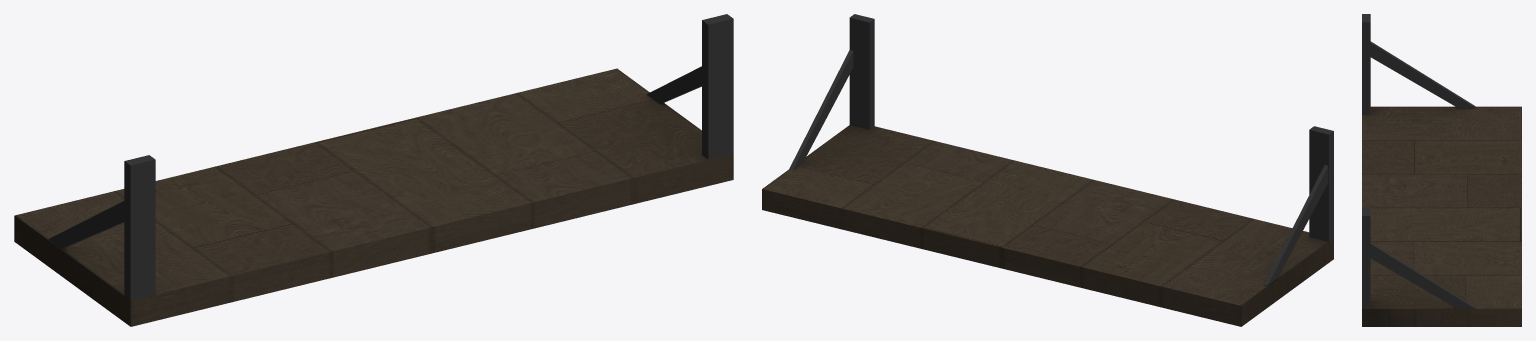
File: Repisa.fbx
3 views of the same model, side by side, from view 1: azimuth 30°, elevation 25°; view 2: azimuth 150°, elevation 25°; view 3: azimuth 270°, elevation 25° (orthographic). The views are drawn at different scales.
Visible parts, largest first — view 1: RepisaComedor; view 2: RepisaComedor; view 3: RepisaComedor.
Part boxes in pixels (x1=…): RepisaComedor: x1=14, y1=14, x2=733, y2=326; RepisaComedor: x1=762, y1=14, x2=1333, y2=326; RepisaComedor: x1=1362, y1=14, x2=1521, y2=326.
Size of the model in its own units: 3.15 by 0.8061 by 1.05.
3 materials, 1 textured.
